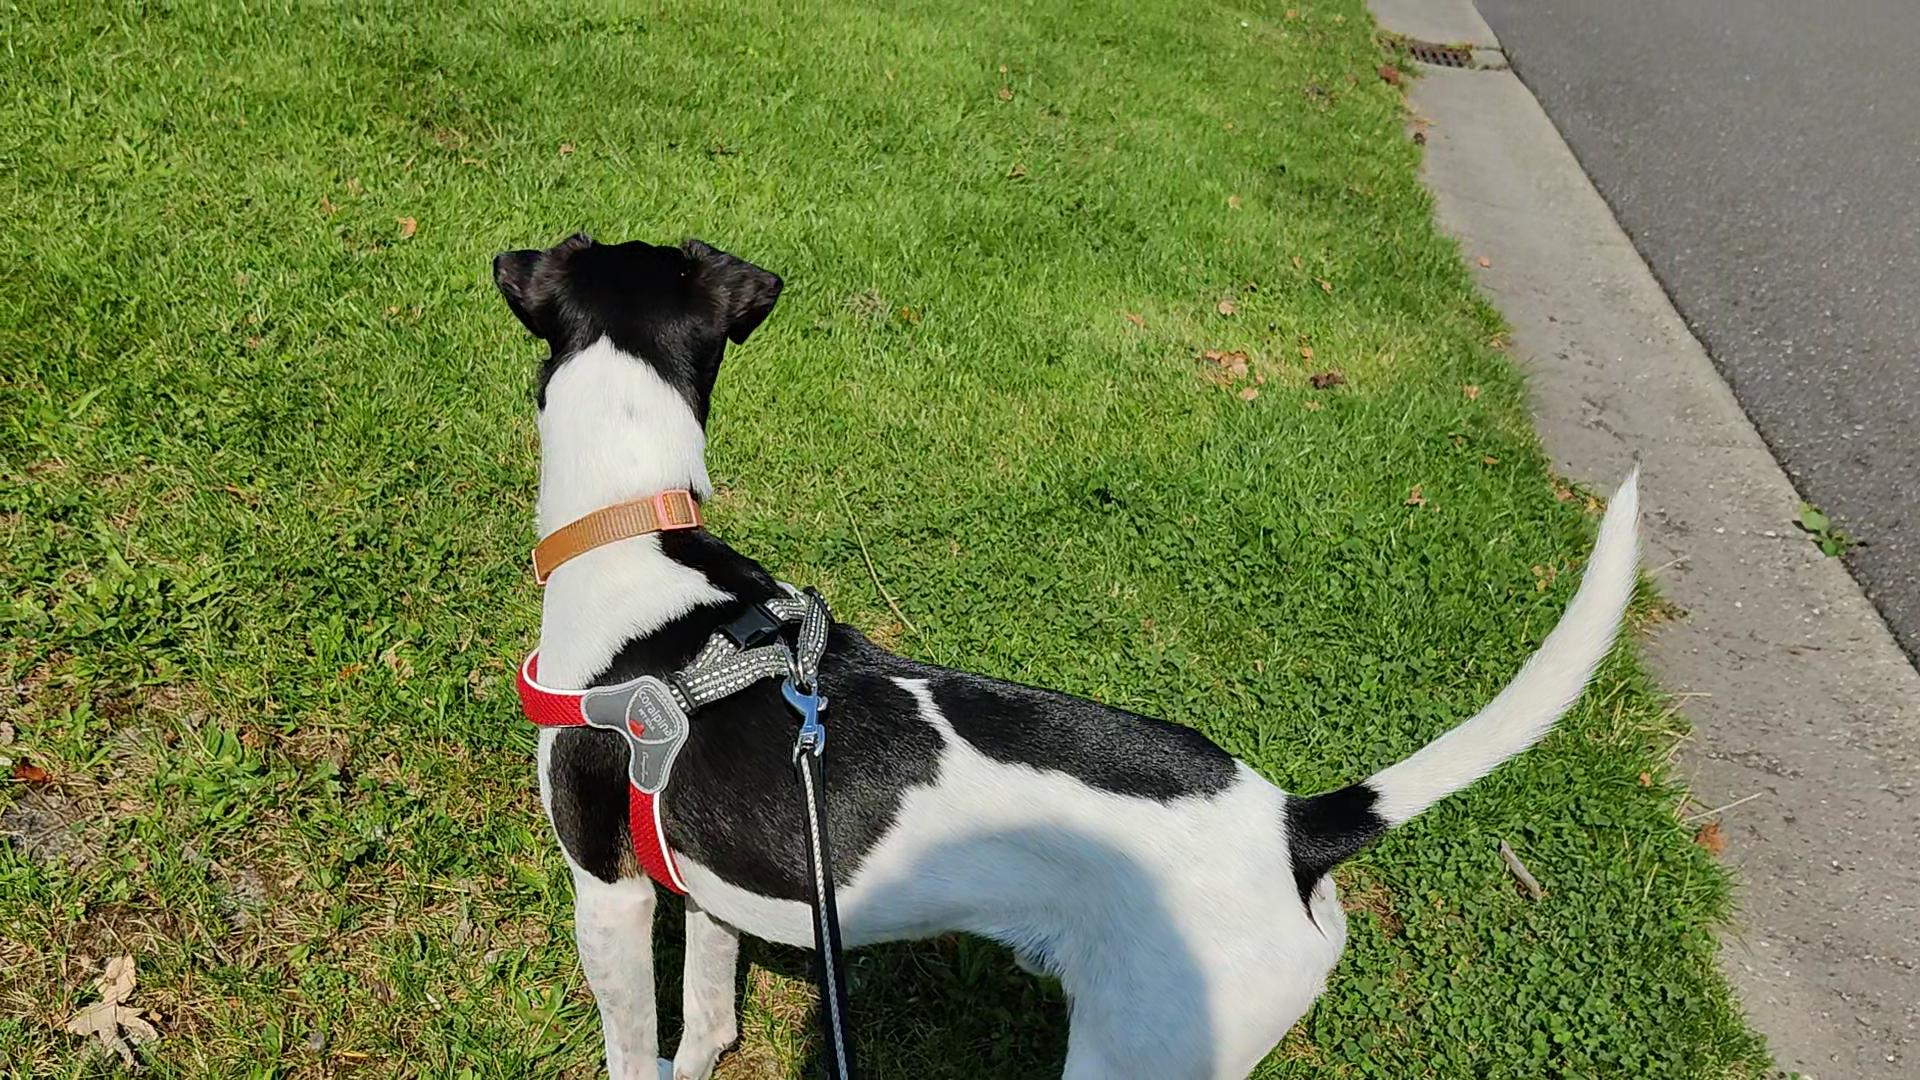Dog: (476, 225, 1655, 1079)
